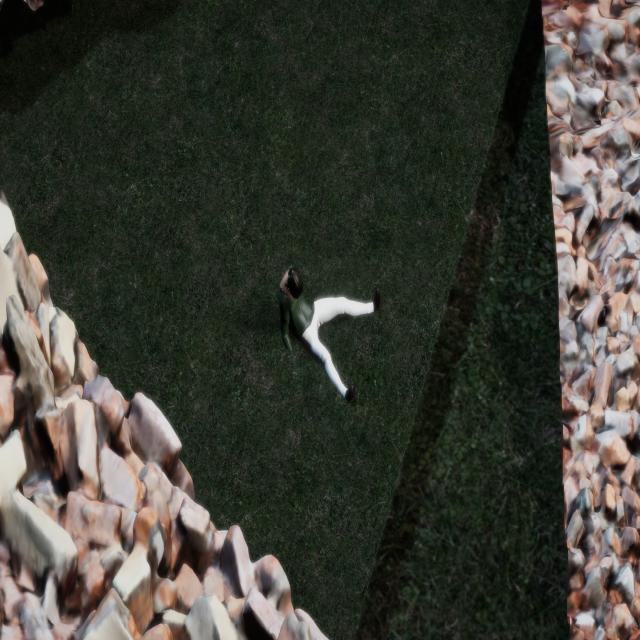Human: (267, 256, 386, 420)
